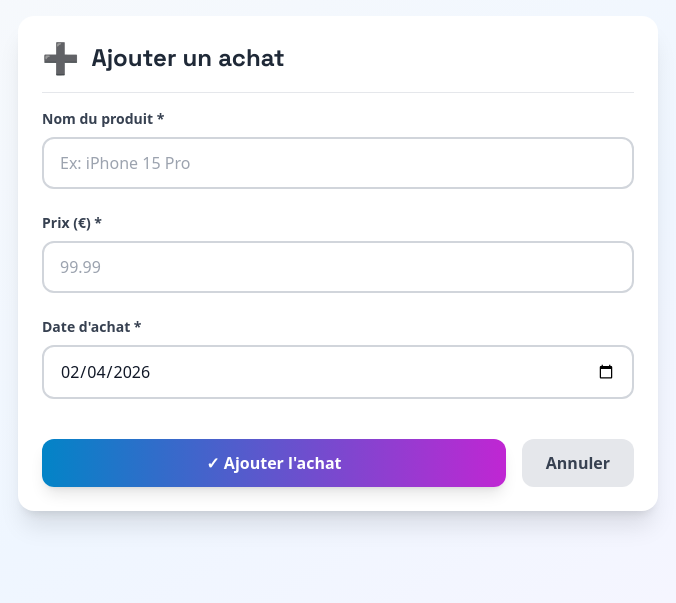
AddPurchase Component › shows validation error for empty product name
The image size is (676, 603).
Click the button "✓ Ajouter l'achat". click: [274, 463]
box: [42, 439, 506, 487]
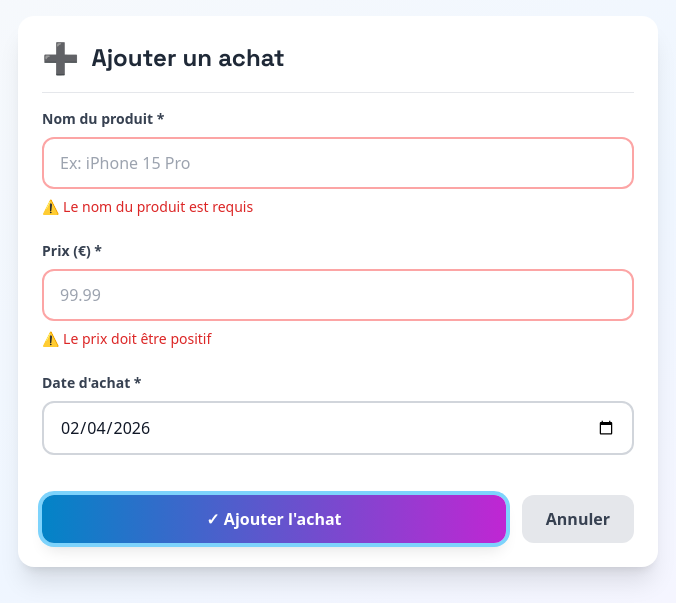
Expected: the text "⚠️ Le nom du produit est requis" is shown, [42, 197, 253, 216]
